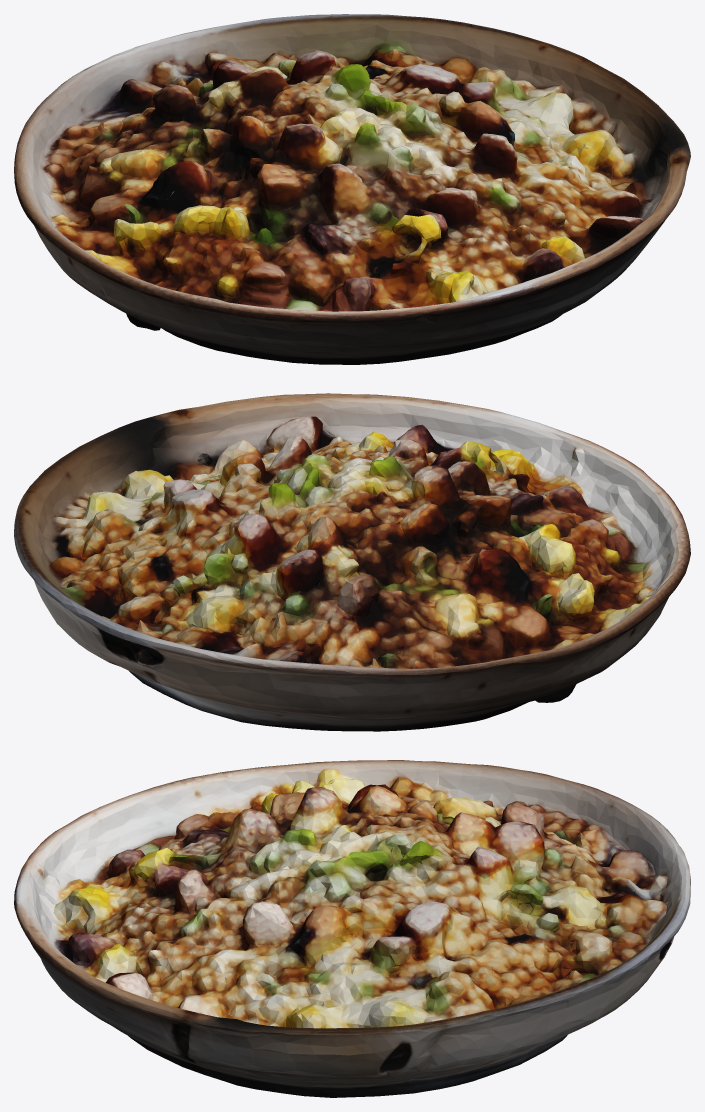
The model's file is chaufa-wok.glb.
3 views of the same model, one above another, from view 1: azimuth 30°, elevation 25°; view 2: azimuth 150°, elevation 25°; view 3: azimuth 270°, elevation 25° (orthographic).
Parts seen in each view (by area): view 1: world; view 2: world; view 3: world.
Boxes of the visible parts, left/top/right/bottom form: world: left=14, top=14, right=690, bottom=364; world: left=14, top=393, right=690, bottom=731; world: left=14, top=760, right=690, bottom=1097.
Size of the model in its own units: 0.2599 by 0.0766 by 0.26.
Materials: 1 (1 with a texture image).
